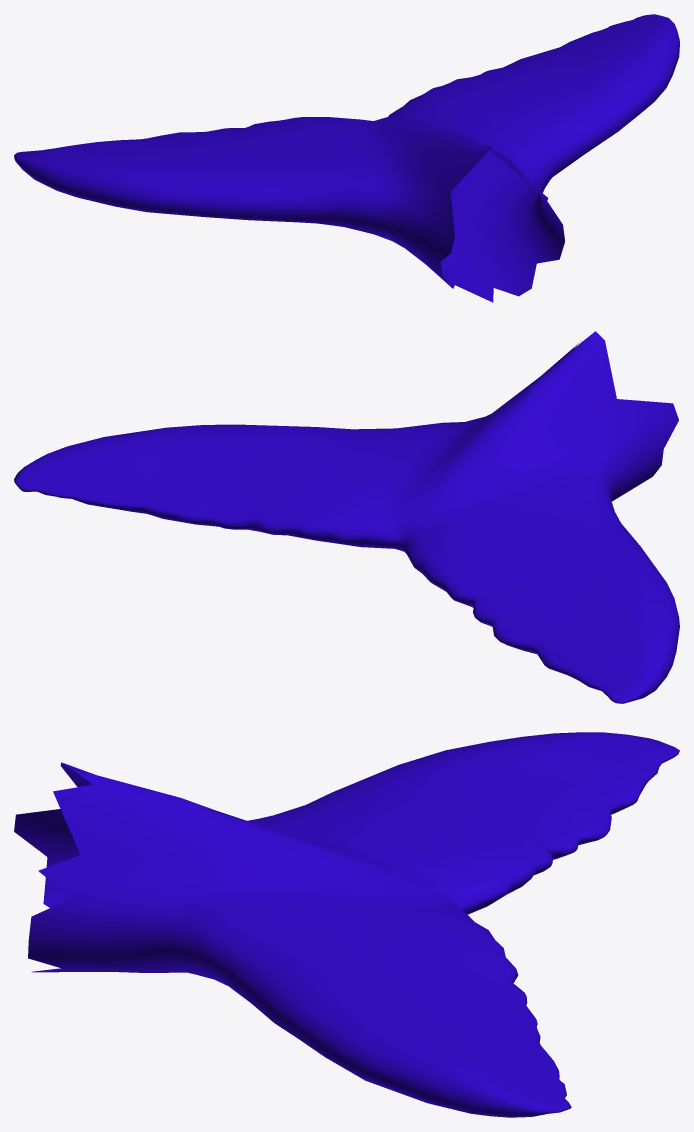
File: coleta.obj
The picture shows the model from 3 angles, top to bottom: view 1: azimuth 30°, elevation 25°; view 2: azimuth 150°, elevation 25°; view 3: azimuth 270°, elevation 25°; orthographic projection. The views are drawn at different scales.
Visible parts, largest first — view 1: coleta_humpback_whale.002; view 2: coleta_humpback_whale.002; view 3: coleta_humpback_whale.002.
Part boxes in pixels (x1,y1,x2,y2): coleta_humpback_whale.002: (14,14,679,302); coleta_humpback_whale.002: (14,331,679,703); coleta_humpback_whale.002: (14,732,679,1117).
Bounding box in the file's own units: 158 × 36.47 × 110.
